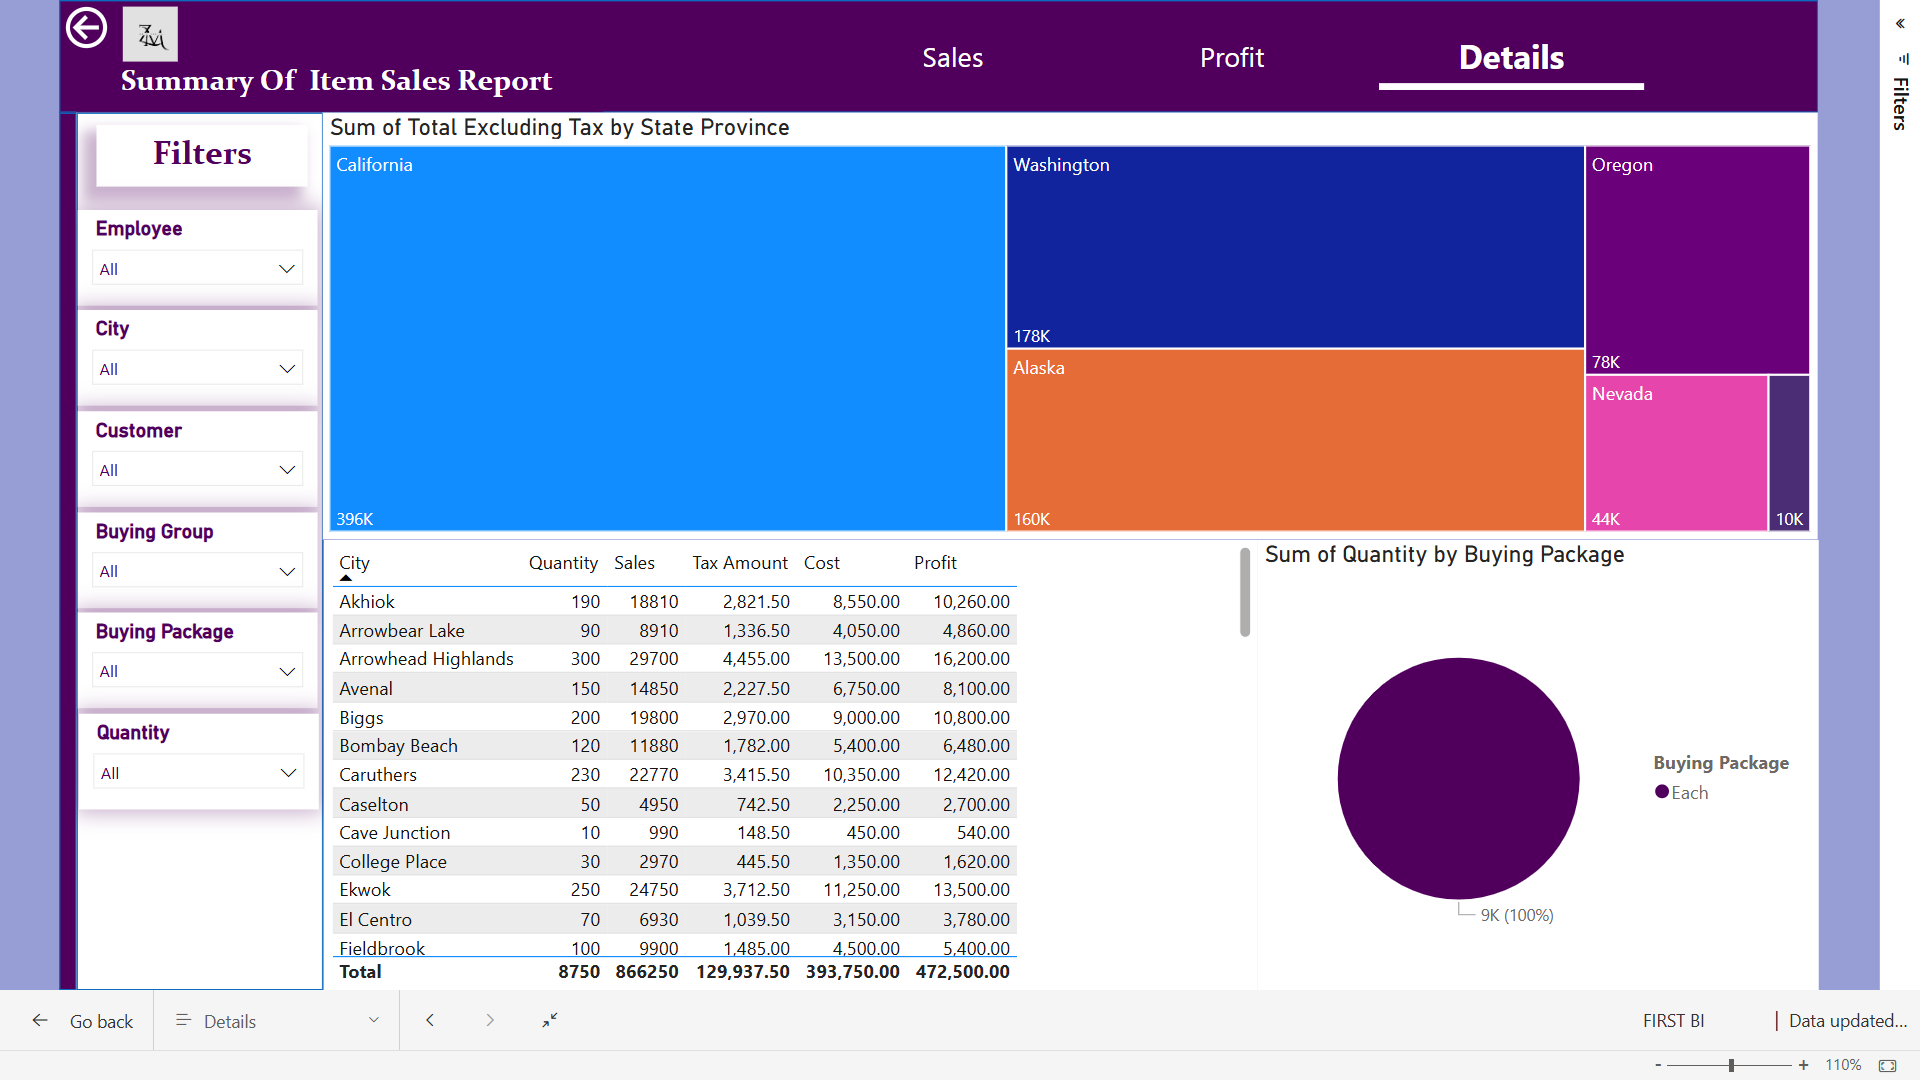

What the dashboard file says about the page in this screenshot:
{"tool":"powerbi","page":{"name":"Details","canvas":[1280,720],"ordinal":2},"visuals":[{"type":"shape","box":[0,0,1279.5,82.1],"z":0},{"type":"shape","box":[0,82.1,12.8,638.5],"z":1000},{"type":"shape","box":[12.8,82.1,179.5,638.5],"z":2000},{"type":"textbox","box":[12.8,41,383.3,41],"z":3000},{"type":"image","box":[0,0,132.1,50],"z":4000},{"type":"textbox","box":[26.9,91,153.8,44.9],"z":5000},{"type":"slicer","fields":{"Values":["DimEmployee.Employee"]},"box":[14,152.6,174,69.2],"z":6000},{"type":"slicer","fields":{"Values":["DimCity.City"]},"box":[13.8,225.9,174.4,69.2],"z":7000},{"type":"slicer","fields":{"Values":["DimCustomer.Customer"]},"box":[13.8,299.2,174.4,69.2],"z":8000},{"type":"slicer","fields":{"Values":["DimCustomer.Buying Group"]},"box":[13.8,372.6,174.4,69.2],"z":9000},{"type":"slicer","fields":{"Values":["DimStockItem.Buying Package"]},"box":[13.8,445.9,174.4,69.2],"z":10000},{"type":"slicer","fields":{"Values":["FactSale.Quantity"]},"box":[14.1,519.2,174.4,69.2],"z":11000},{"type":"actionButton","box":[0,0,100,40],"z":12000},{"type":"pageNavigator","box":[553.8,15.4,600,50],"z":13000},{"type":"tableEx","fields":{"Values":["DimCity.City","Sum(FactSale.Quantity)","Sum(FactSale.Total Excluding Tax)","Sum(FactSale.Tax Amount)","Sum(FactSale.Cost)","Sum(FactSale.Profit)"]},"box":[192.3,392.3,679.5,328.2],"z":14000},{"type":"pieChart","fields":{"Y":["Sum(FactSale.Quantity)"],"Category":["DimStockItem.Buying Package"]},"box":[871.8,392.3,407.7,328.2],"z":15000},{"type":"treemap","fields":{"Group":["DimCity.State Province"],"Values":["Sum(FactSale.Total Excluding Tax)"]},"box":[192,82,1087,310],"z":16000}]}

Visuals, with their boxes on the page's 1280x720 design canvas (x1, y1, x2, y2). These are canvas units, not pixel positions in the 1920x1080 screenshot, which may show the page scaled, cropped or inside an application window:
shape: <region>0, 0, 1280, 82</region>
shape: <region>0, 82, 13, 721</region>
shape: <region>13, 82, 192, 721</region>
textbox: <region>13, 41, 396, 82</region>
image: <region>0, 0, 132, 50</region>
textbox: <region>27, 91, 181, 136</region>
slicer - DimEmployee.Employee: <region>14, 153, 188, 222</region>
slicer - DimCity.City: <region>14, 226, 188, 295</region>
slicer - DimCustomer.Customer: <region>14, 299, 188, 368</region>
slicer - DimCustomer.Buying Group: <region>14, 373, 188, 442</region>
slicer - DimStockItem.Buying Package: <region>14, 446, 188, 515</region>
slicer - FactSale.Quantity: <region>14, 519, 188, 588</region>
actionButton: <region>0, 0, 100, 40</region>
pageNavigator: <region>554, 15, 1154, 65</region>
tableEx - DimCity.City x Sum(FactSale.Quantity): <region>192, 392, 872, 720</region>
pieChart - Sum(FactSale.Quantity) x DimStockItem.Buying Package: <region>872, 392, 1280, 720</region>
treemap - DimCity.State Province x Sum(FactSale.Total Excluding Tax): <region>192, 82, 1279, 392</region>
